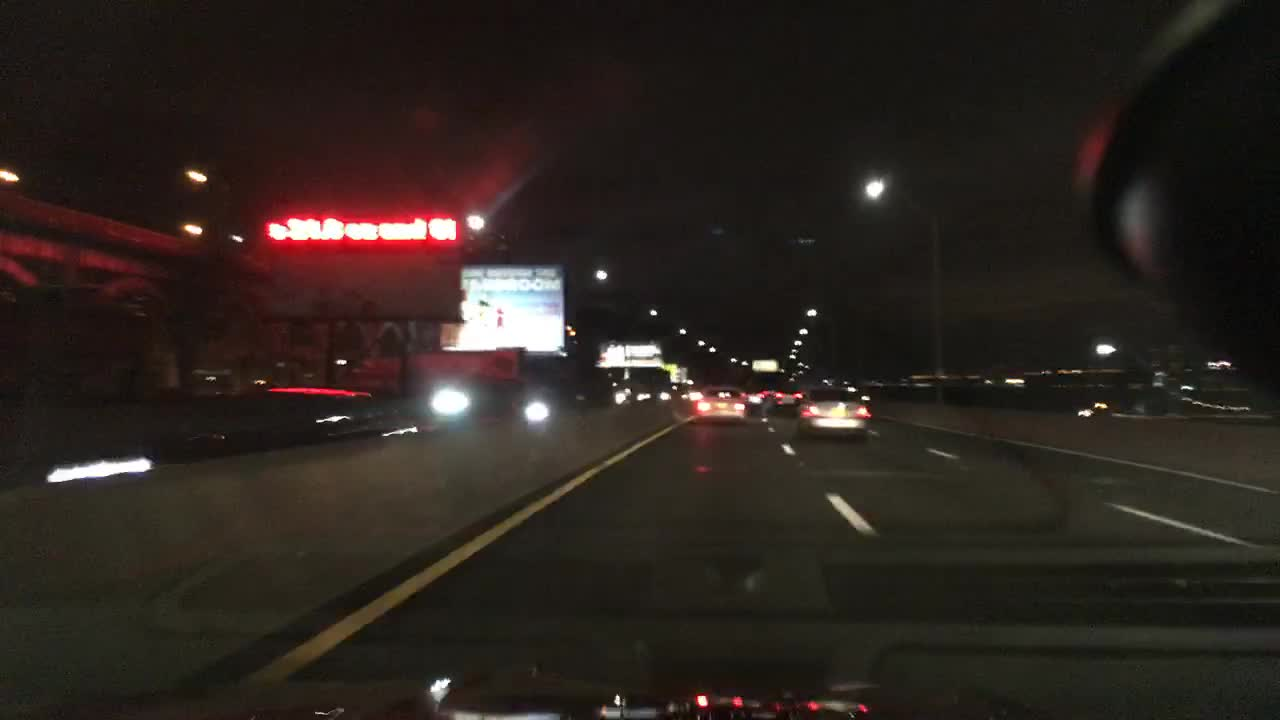car: (170, 380, 382, 458), (792, 386, 870, 441), (412, 376, 484, 423), (694, 384, 746, 425), (517, 384, 559, 423), (594, 385, 633, 407), (771, 385, 807, 408), (635, 384, 675, 401), (678, 388, 703, 402), (741, 390, 762, 406), (237, 517, 250, 518)
traffic sign: (751, 358, 776, 372)
